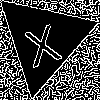X: (19, 15, 63, 68)
